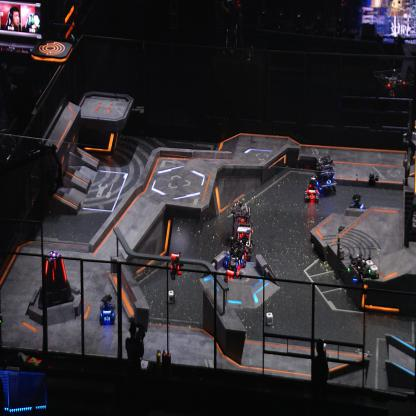car: (229, 198, 253, 244), (315, 153, 336, 194), (223, 236, 247, 271), (234, 222, 254, 260), (223, 256, 244, 286), (346, 194, 368, 221), (98, 294, 115, 326), (304, 175, 319, 202)
